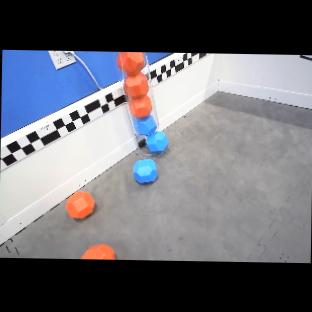Loader: (114, 51, 163, 160)
V5_BLUE: (134, 115, 168, 153), (133, 158, 157, 182), (141, 173, 142, 174)
V5_RED: (116, 51, 152, 119), (65, 191, 95, 218), (81, 244, 115, 259)
